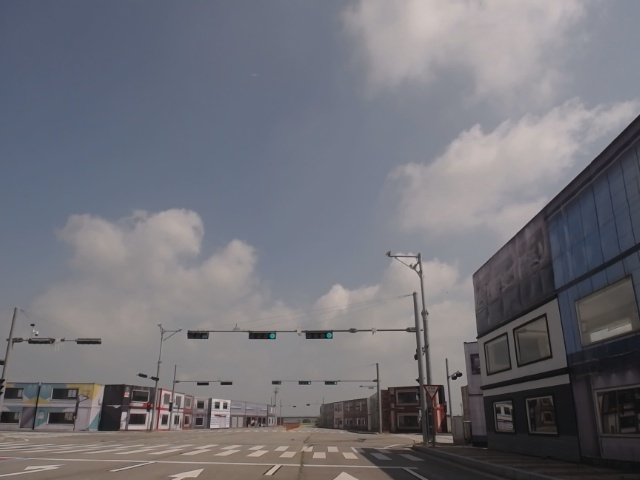straight_green_4: (305, 330, 334, 341), (249, 332, 277, 341)
